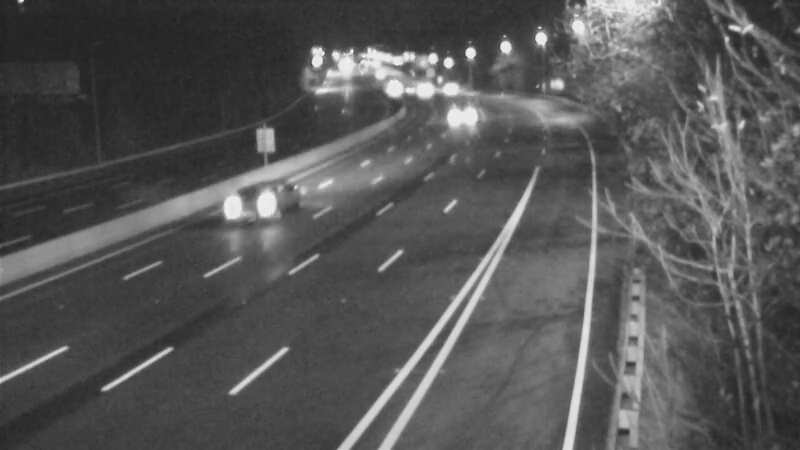vehicle: (218, 166, 298, 246), (423, 65, 473, 115), (399, 63, 449, 113), (387, 67, 437, 117), (364, 62, 414, 112), (433, 93, 483, 143)
